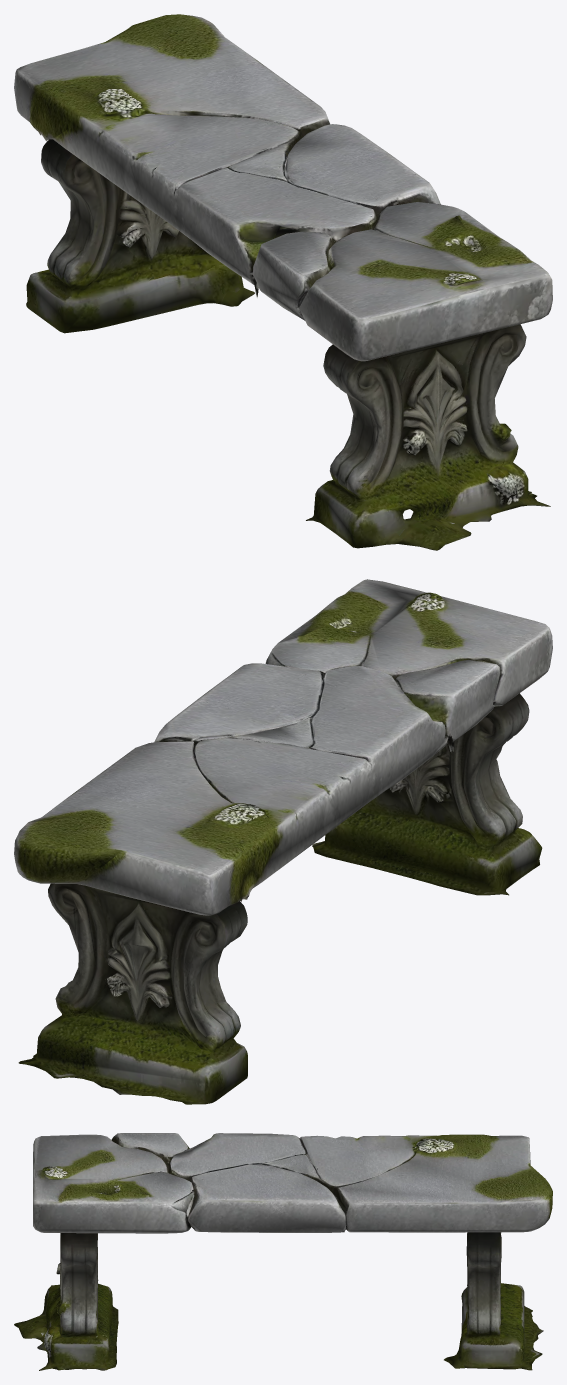
The model's file is stonebench.opt.glb.
3 views of the same model, one above another, from view 1: azimuth 30°, elevation 25°; view 2: azimuth 150°, elevation 25°; view 3: azimuth 270°, elevation 25° (orthographic). The views are drawn at different scales.
Parts seen in each view (by area): view 1: node_0; view 2: node_0; view 3: node_0.
Boxes of the visible parts, x1=… form: node_0: x1=14, y1=14, x2=552, y2=550; node_0: x1=14, y1=579, x2=552, y2=1104; node_0: x1=14, y1=1133, x2=552, y2=1370.
Size of the model in its own units: 0.3431 by 0.3997 by 1.12.
1 material, 1 textured.
